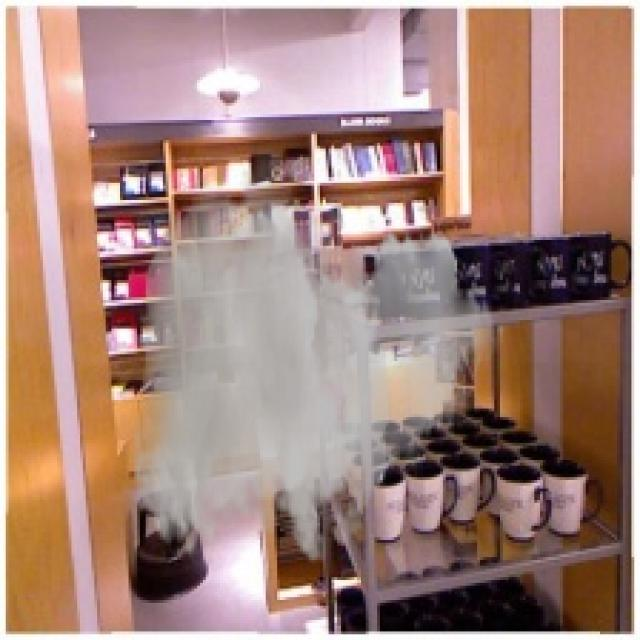smoke: (131, 140, 506, 566)
